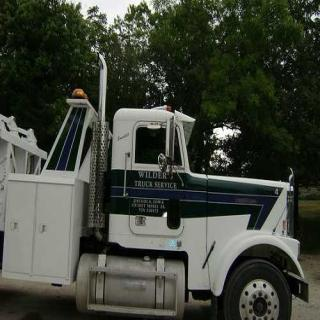Towing_truck: (1, 52, 309, 318)
